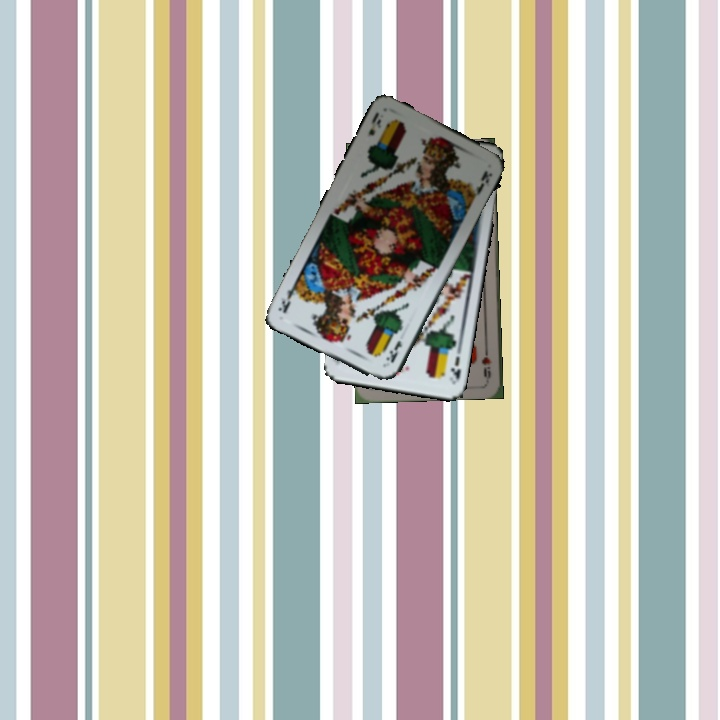EK: (381, 336, 405, 366), (363, 108, 384, 140), (446, 351, 464, 385)
H9: (478, 342, 494, 382)
